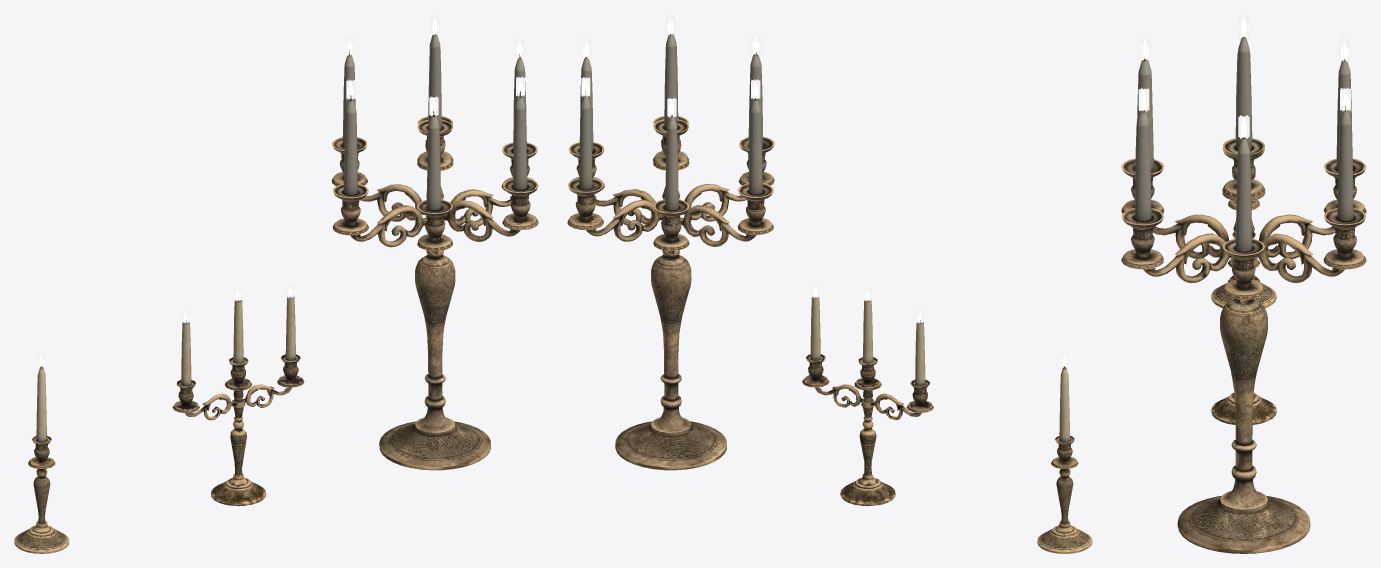
Rendered from brass_candleholders.glb.
3 renders of one model, left to right at view 1: azimuth 30°, elevation 25°; view 2: azimuth 150°, elevation 25°; view 3: azimuth 270°, elevation 25°, orthographic. The views are drawn at different scales.
Visible parts, largest first — view 1: brass_candleholder_03, brass_candleholder_02, brass_candleholder_01; view 2: brass_candleholder_03, brass_candleholder_02, brass_candleholder_01; view 3: brass_candleholder_03, brass_candleholder_02, brass_candleholder_01.
Boxes of the visible parts, <box> form: brass_candleholder_03: <box>38,15,538,470</box>; brass_candleholder_02: <box>172,296,304,506</box>; brass_candleholder_01: <box>14,366,69,553</box>; brass_candleholder_03: <box>567,14,1067,470</box>; brass_candleholder_02: <box>802,296,933,505</box>; brass_candleholder_01: <box>1037,366,1092,553</box>; brass_candleholder_03: <box>1121,15,1366,553</box>; brass_candleholder_02: <box>1211,232,1276,424</box>; brass_candleholder_01: <box>1211,175,1276,307</box>.
Size of the model in its own units: 1.05 by 0.8353 by 0.3647.
Materials: 5 (5 with a texture image).
